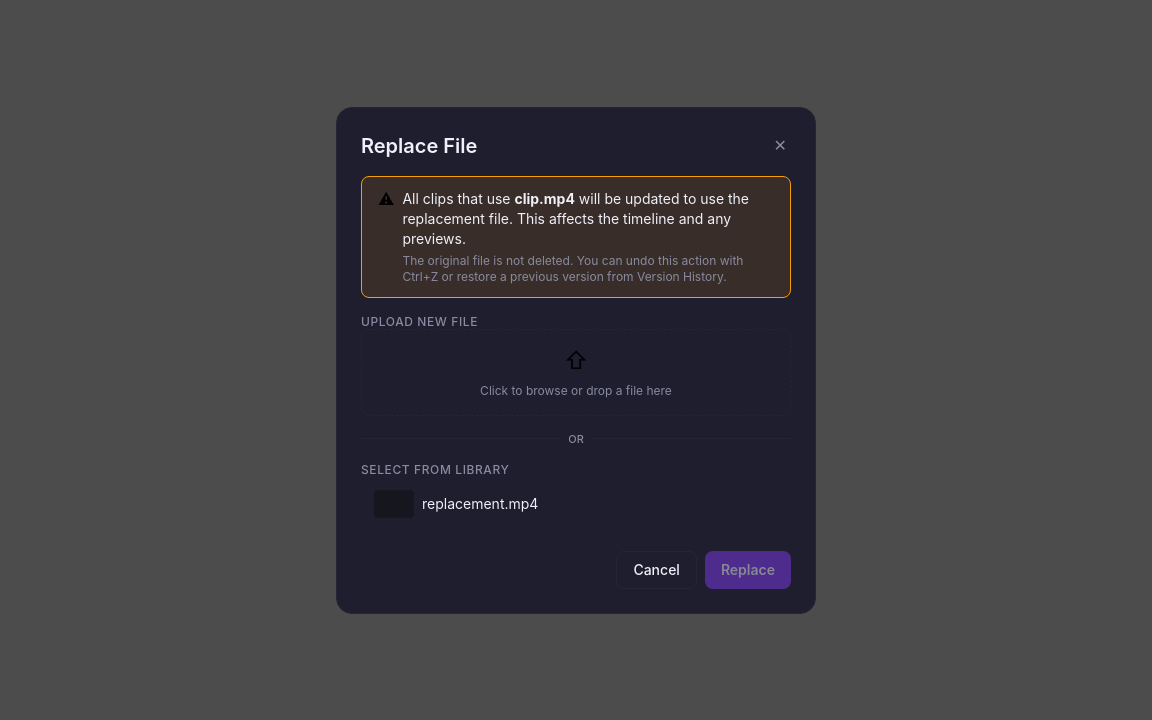
Scenario: ReplaceAssetDialog › library selection › Replace button is enabled after selecting a library asset
Click the option "replacement.mp4".
click(456, 504)  # box [374,490,538,518]
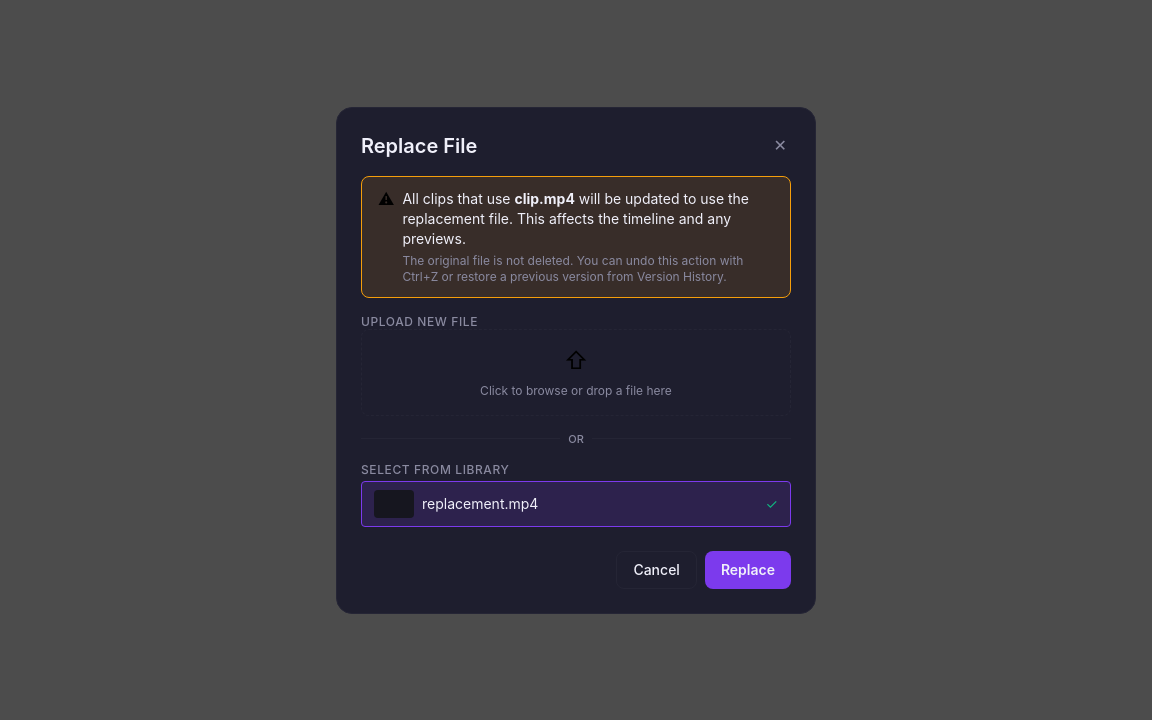
Now the button with aria-label "replace with selected asset" is enabled, box [705,550,791,588]
